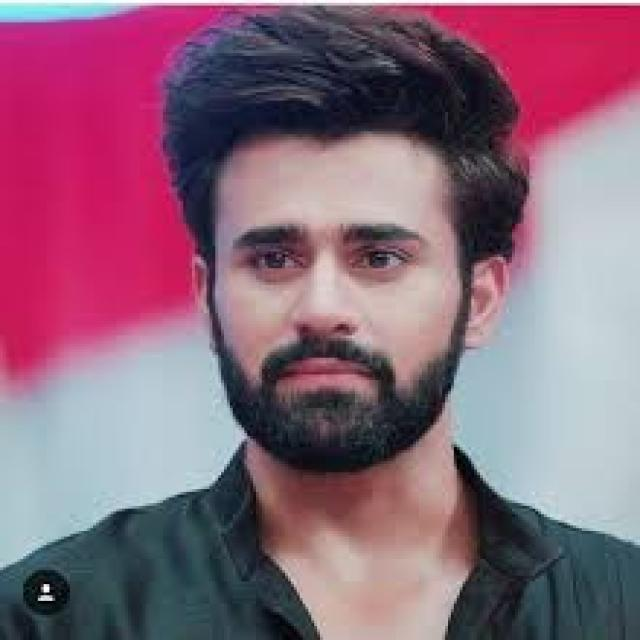low: (349, 271, 410, 292), (254, 268, 306, 291)
